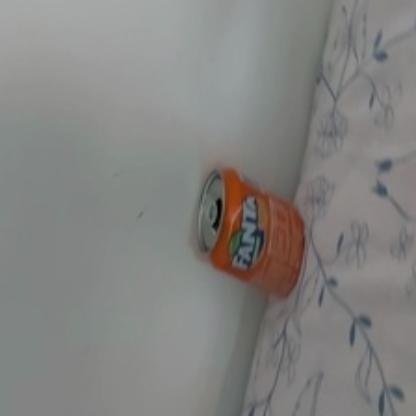Can: (194, 164, 308, 300)
